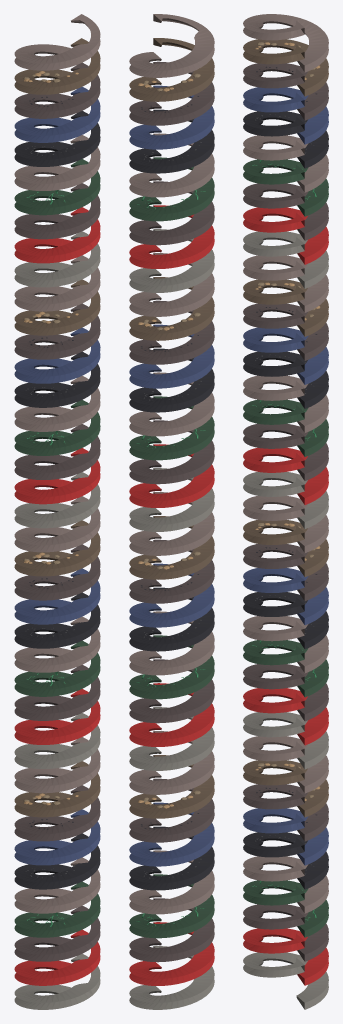
3 views of the same model, side by side, from view 1: azimuth 90°, elevation 25°; view 2: azimuth 150°, elevation 25°; view 3: azimuth 330°, elevation 25° (orthographic).
Visible parts, largest first — view 1: Circle8; view 2: Circle8; view 3: Circle8.
Boxes of the visible parts, x1,y1,x2,y2 form: Circle8: [14, 14, 100, 1009]; Circle8: [129, 14, 214, 1009]; Circle8: [243, 14, 328, 1009].
Size of the model in its own units: 38.86 by 490 by 38.86.
1 material, 1 textured.
